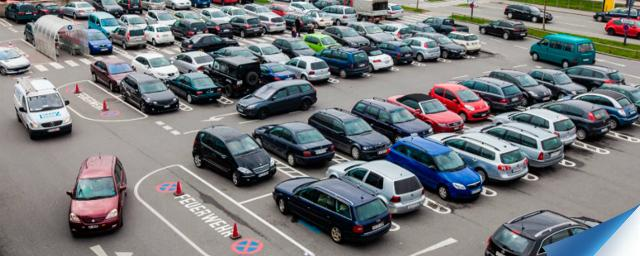Car: (273, 177, 391, 243), (387, 135, 483, 200), (484, 209, 601, 256), (326, 160, 425, 214), (427, 133, 529, 183), (191, 126, 276, 186), (66, 154, 128, 236), (465, 122, 564, 168), (307, 108, 391, 160), (13, 77, 73, 139), (252, 122, 335, 166), (351, 99, 435, 141), (527, 99, 611, 140), (557, 88, 640, 129), (492, 108, 577, 147), (385, 93, 464, 133), (236, 79, 317, 118), (120, 71, 180, 113), (529, 33, 596, 68), (204, 56, 261, 97), (429, 83, 490, 121), (488, 69, 552, 105), (458, 77, 523, 111), (528, 68, 587, 99), (167, 72, 222, 104), (315, 47, 370, 78), (564, 65, 625, 91), (91, 57, 134, 92), (131, 53, 179, 83), (415, 32, 466, 59), (282, 56, 331, 83), (346, 21, 395, 46), (598, 84, 640, 111), (321, 26, 370, 48), (343, 0, 389, 23), (180, 34, 240, 51), (171, 51, 214, 74), (479, 20, 528, 40), (244, 43, 290, 64), (358, 45, 393, 72), (272, 38, 317, 59), (504, 4, 553, 23), (403, 37, 441, 61), (108, 26, 146, 49), (0, 46, 31, 74), (377, 41, 414, 64), (87, 11, 121, 36), (422, 17, 469, 35), (229, 14, 264, 38), (303, 33, 343, 53), (170, 19, 208, 40), (320, 5, 358, 26), (604, 18, 640, 39), (260, 63, 296, 84), (448, 32, 481, 54), (4, 2, 38, 23), (87, 28, 113, 55), (210, 47, 259, 61), (144, 24, 175, 46), (593, 8, 640, 22), (257, 12, 286, 34), (61, 2, 96, 19), (304, 9, 333, 29), (91, 0, 125, 17), (144, 10, 176, 28), (205, 19, 233, 39), (266, 4, 303, 19), (380, 24, 412, 41), (200, 8, 231, 23), (242, 4, 272, 18), (284, 15, 310, 31), (118, 14, 147, 28), (37, 2, 62, 18), (290, 2, 320, 15), (173, 11, 205, 23), (220, 6, 249, 19), (408, 23, 437, 36), (117, 0, 143, 14), (385, 2, 405, 19), (142, 0, 166, 11), (25, 23, 36, 46), (314, 0, 341, 9), (166, 0, 192, 9), (190, 0, 210, 8), (211, 0, 237, 5), (239, 0, 254, 5)
